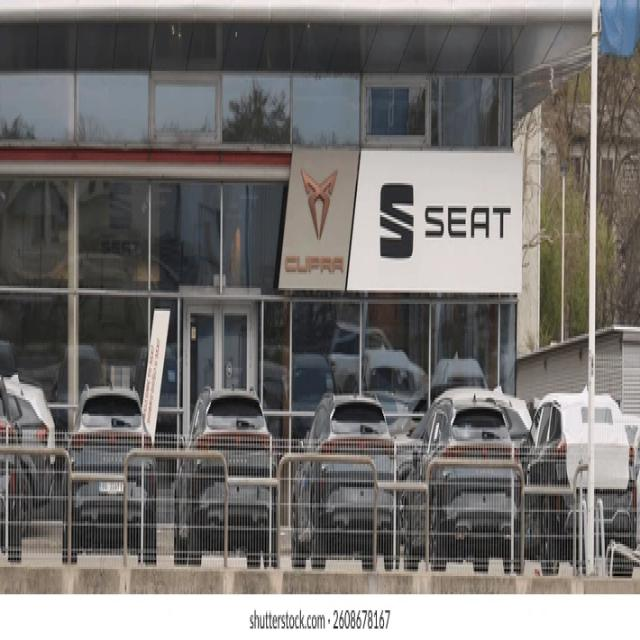cupra: (300, 165, 338, 242)
seat: (380, 180, 414, 260)
